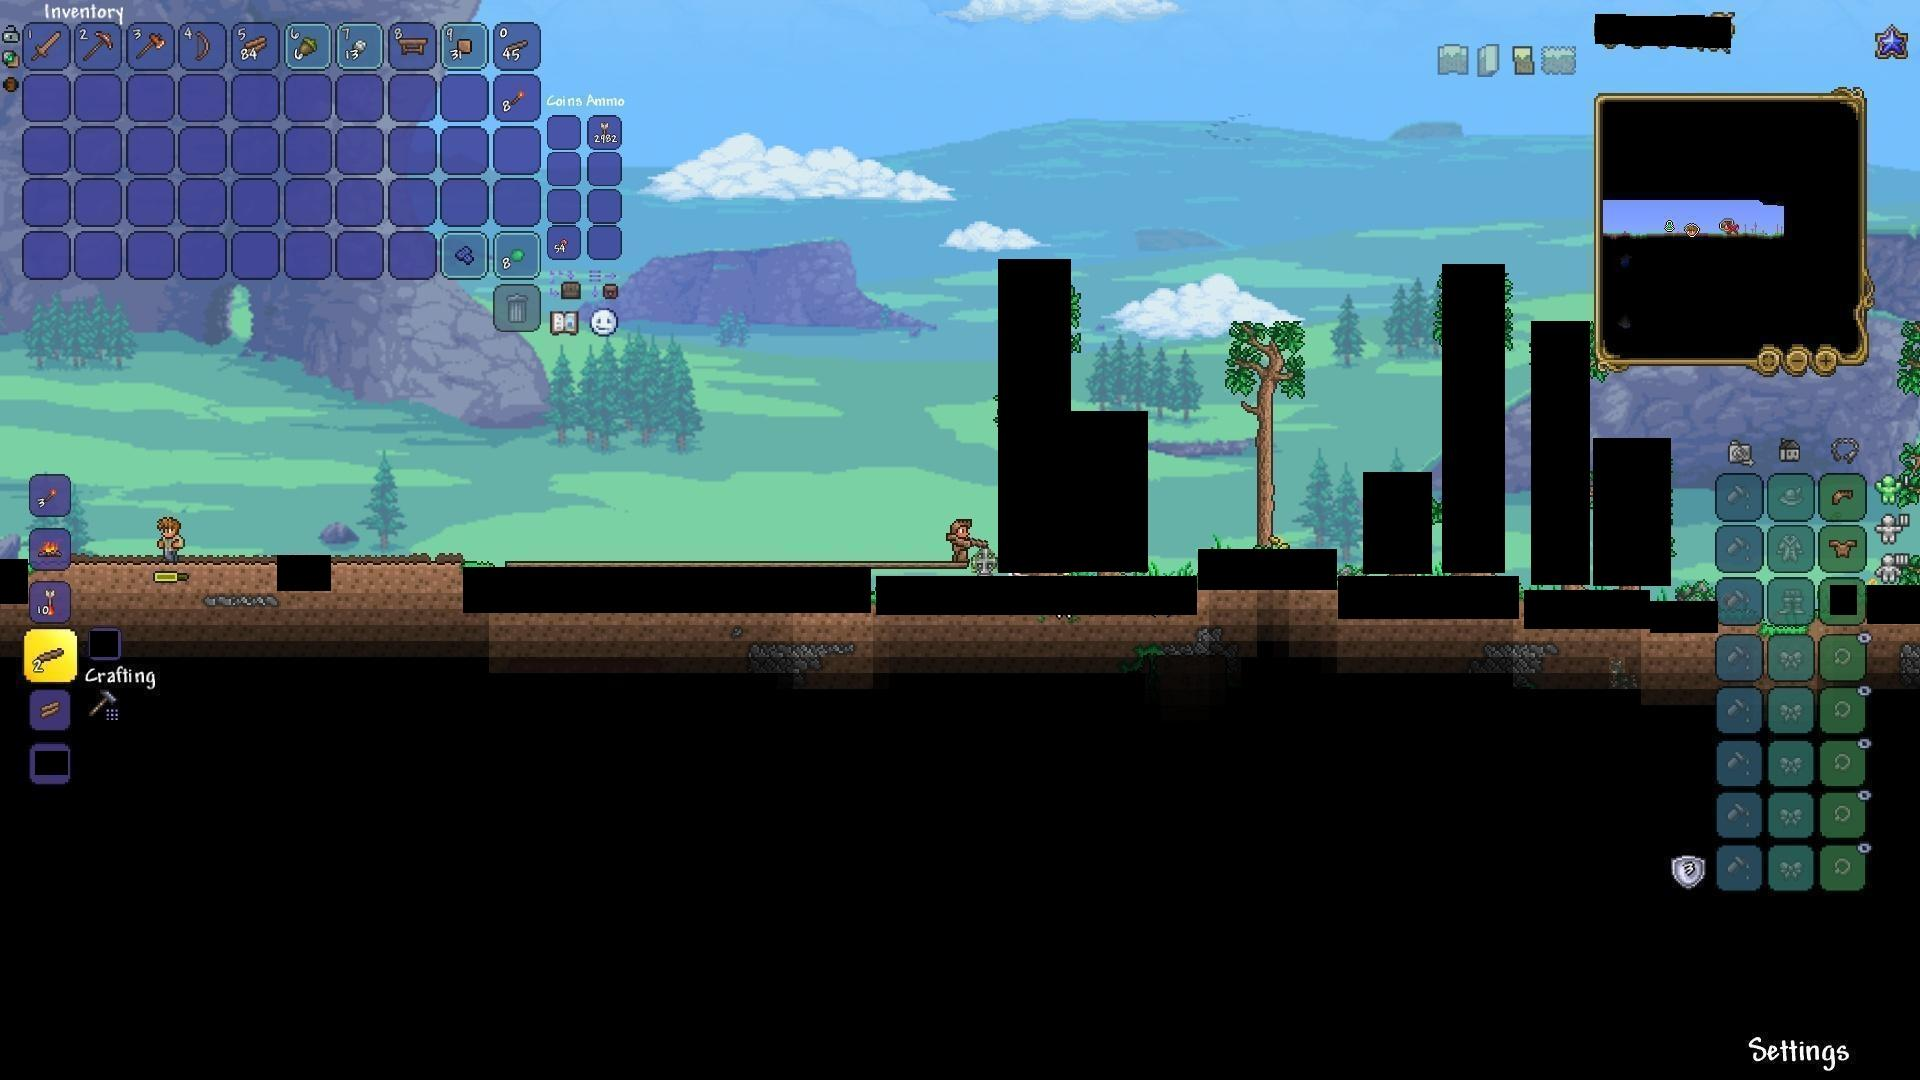breastplate: (1830, 537, 1859, 558)
helmet: (1828, 483, 1858, 512)
tree: (1232, 307, 1299, 549)
wood: (36, 695, 65, 723), (243, 34, 270, 61)
workbench: (394, 33, 431, 58)
